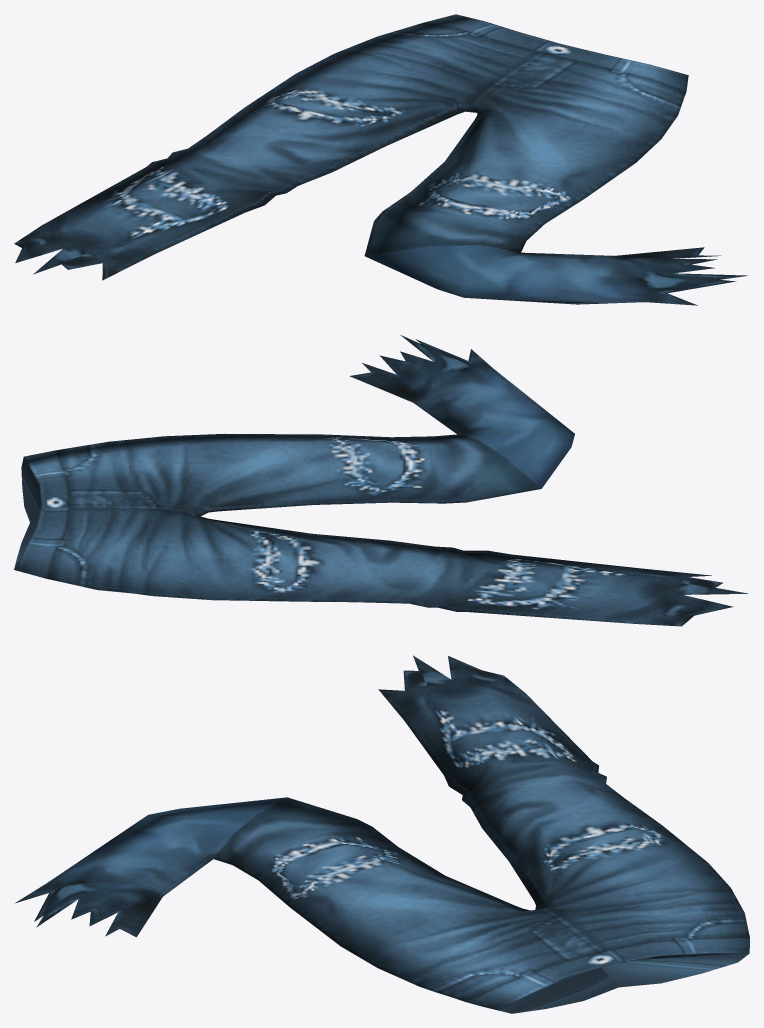
Rendered from SiWangPenQuan_01_kuzi_01.FBX.
3 views of the same model, one above another, from view 1: azimuth 30°, elevation 25°; view 2: azimuth 150°, elevation 25°; view 3: azimuth 270°, elevation 25° (orthographic). The views are drawn at different scales.
Visible parts, largest first — view 1: SiWangPenQuan_01_kuzi_01; view 2: SiWangPenQuan_01_kuzi_01; view 3: SiWangPenQuan_01_kuzi_01.
Boxes of the visible parts, x1,y1,x2,y2 form: SiWangPenQuan_01_kuzi_01: (14, 14, 747, 305); SiWangPenQuan_01_kuzi_01: (14, 335, 747, 626); SiWangPenQuan_01_kuzi_01: (15, 655, 749, 1013).
Size of the model in its own units: 322 by 10.38 by 282.
